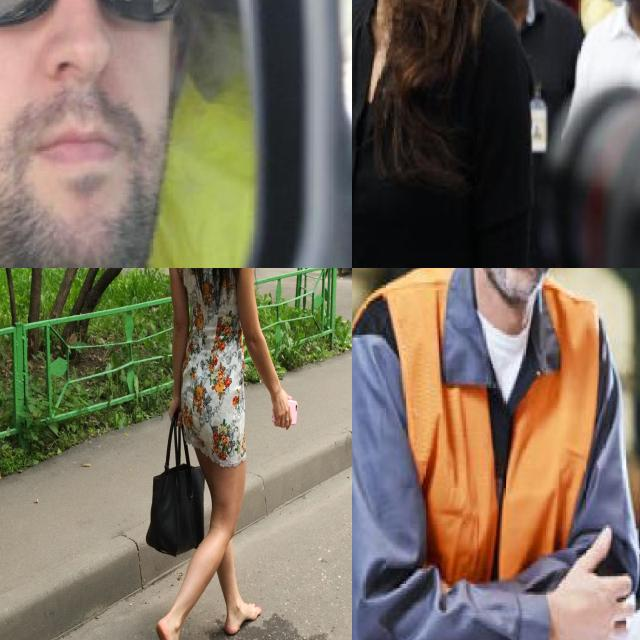Barefoots: (224, 602, 262, 634), (156, 617, 179, 640)
face_nomask: (0, 0, 183, 218)
glasses: (352, 0, 528, 268)
hand_noglove: (537, 518, 637, 640)
person: (352, 268, 625, 617), (558, 0, 640, 144)
vest: (352, 268, 594, 580)
